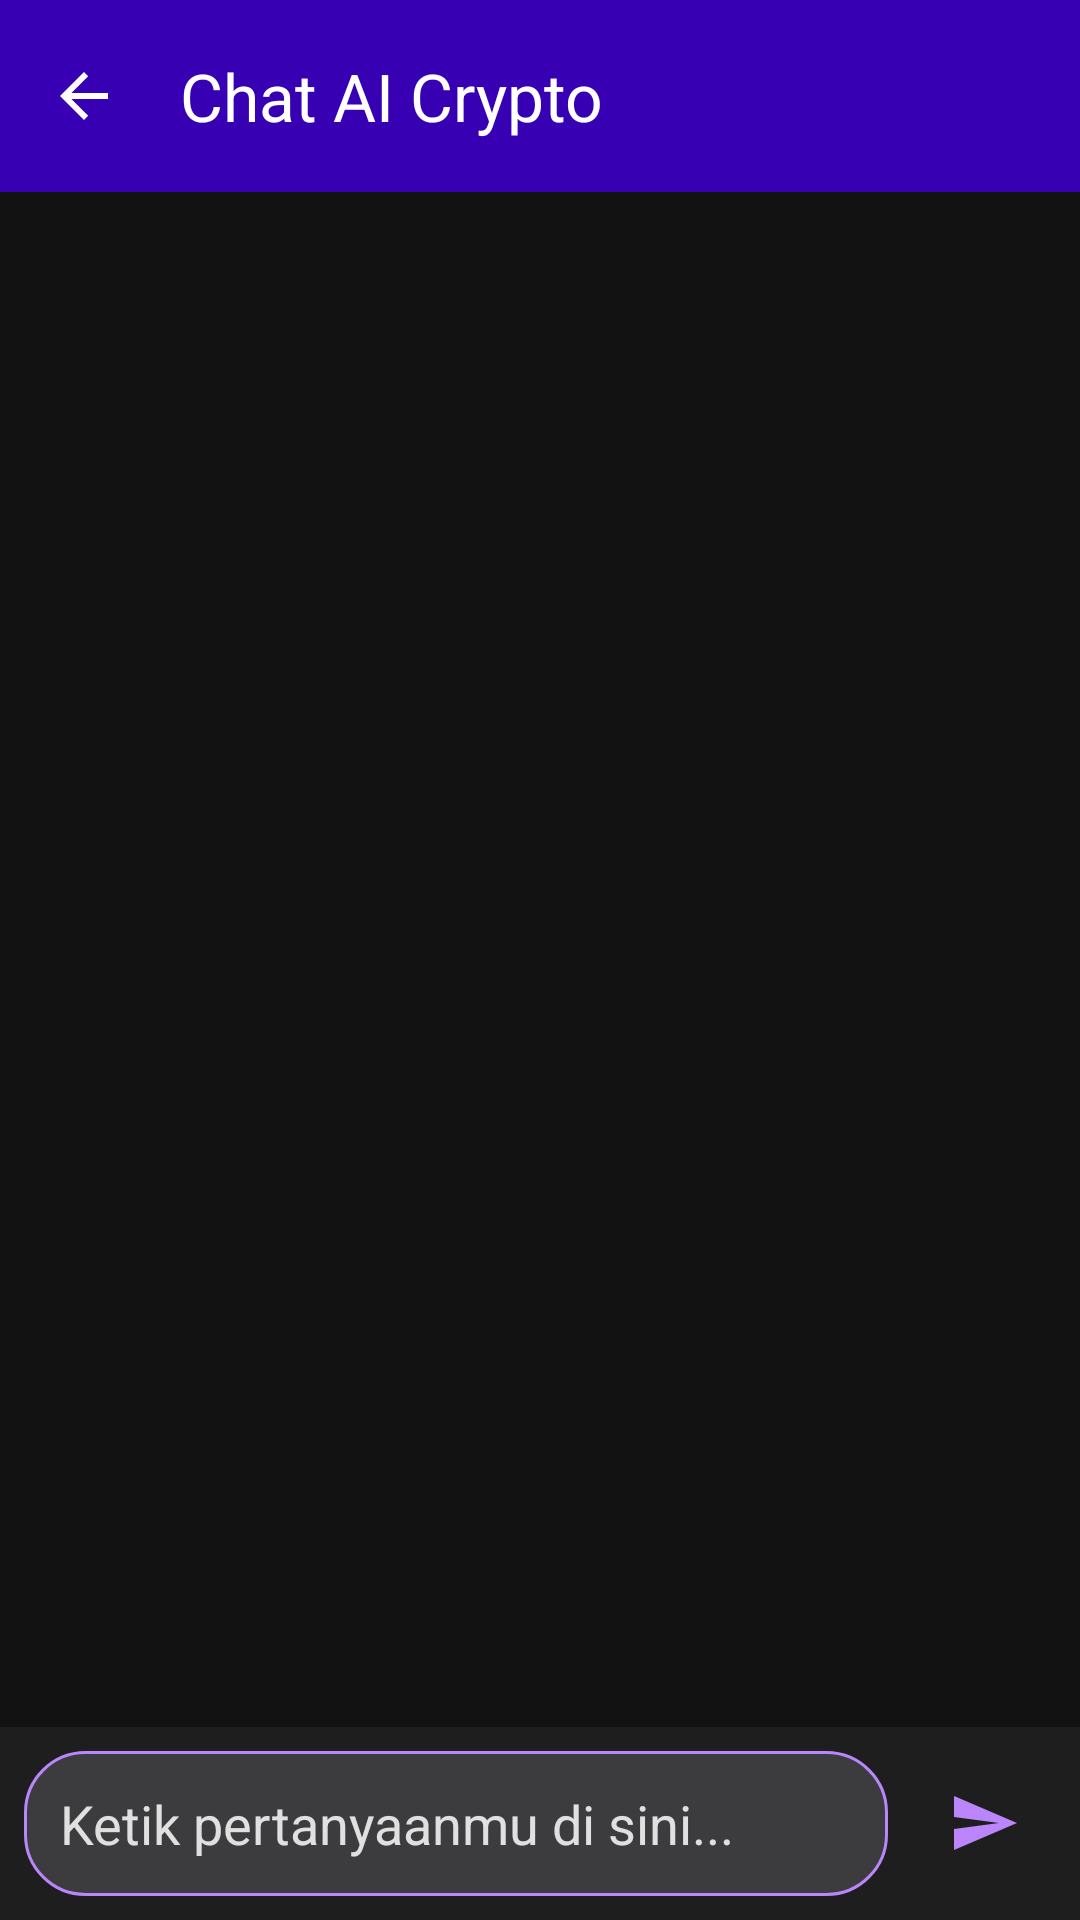

Named icons in this screenshot (1080 × 1920) and their centers, (x,y):
Kirim Pesan: (985,1823)
